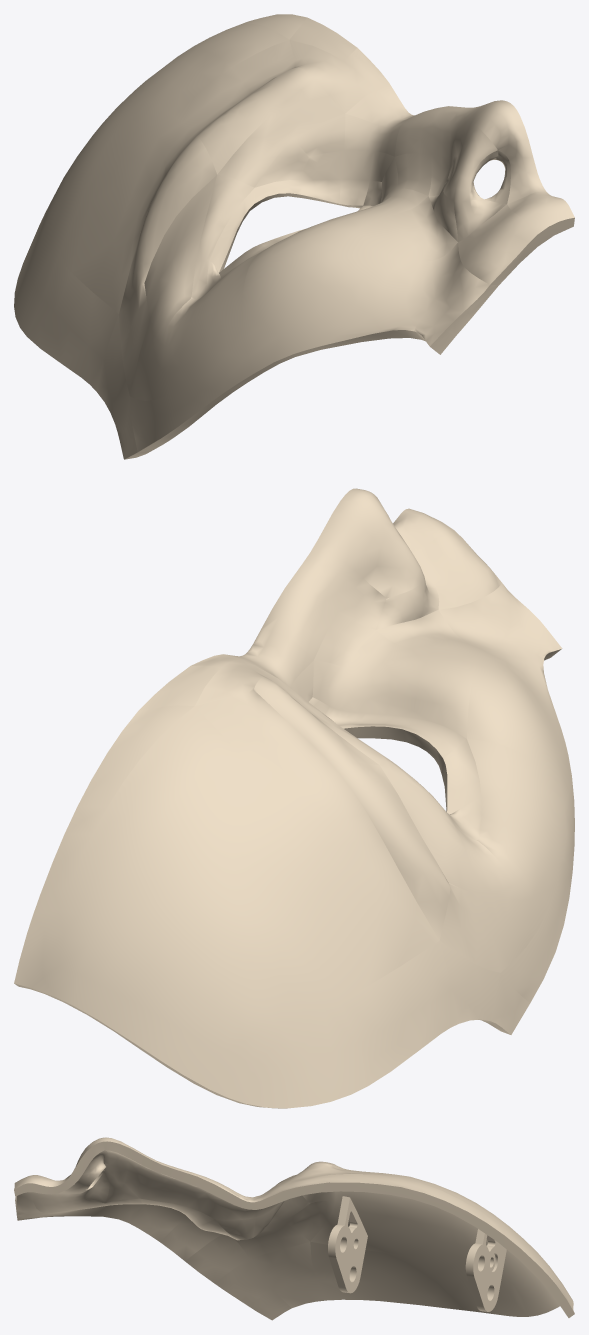
File: Left_Face.gltf
3 renders of one model, top to bottom at view 1: azimuth 30°, elevation 25°; view 2: azimuth 150°, elevation 25°; view 3: azimuth 270°, elevation 25°, orthographic. The views are drawn at different scales.
Parts seen in each view (by area): view 1: Left Face; view 2: Left Face; view 3: Left Face.
Boxes of the visible parts, x1,y1,x2,y2 form: Left Face: [14, 14, 574, 459]; Left Face: [14, 488, 574, 1108]; Left Face: [14, 1137, 574, 1320].
Bounding box in the file's own units: 0.0833 × 0.1083 × 0.2032.
